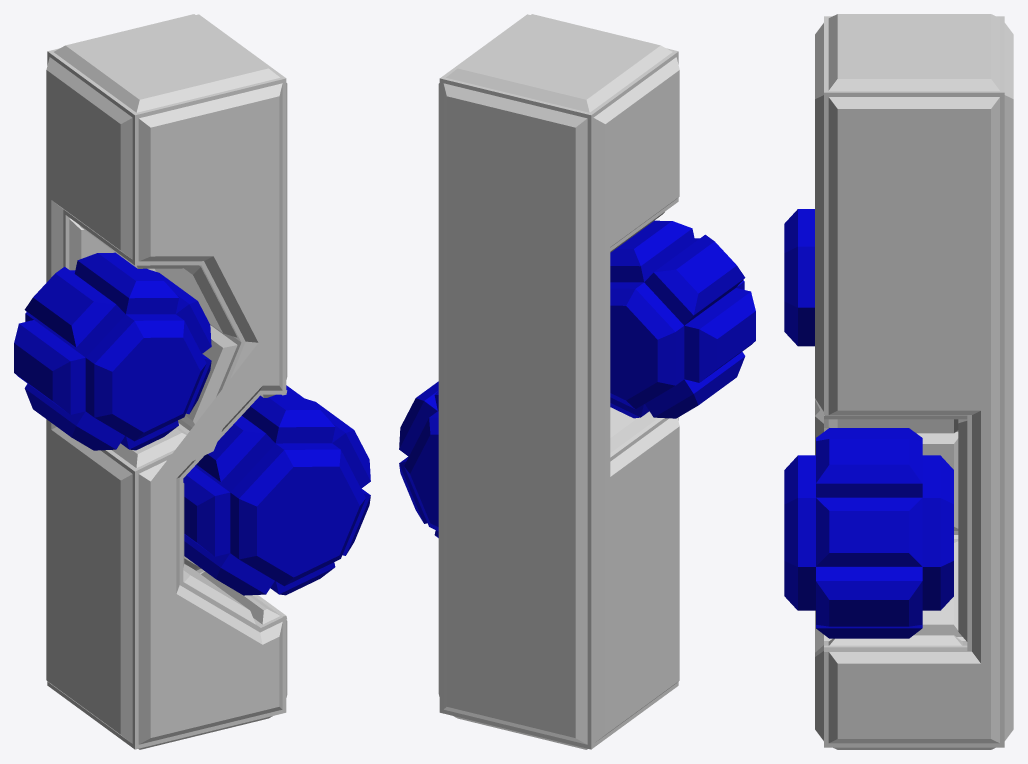
3 views of the same model, side by side, from view 1: azimuth 30°, elevation 25°; view 2: azimuth 150°, elevation 25°; view 3: azimuth 270°, elevation 25° (orthographic). The views are drawn at different scales.
Visible parts, largest first — view 1: sphere1; view 2: sphere1; view 3: sphere1.
Part boxes in pixels (bbox=[...]): sphere1: bbox=[14, 14, 370, 749]; sphere1: bbox=[399, 14, 755, 749]; sphere1: bbox=[784, 14, 1013, 749].
Size of the model in its own units: 0.4185 by 0.82 by 0.2541.
